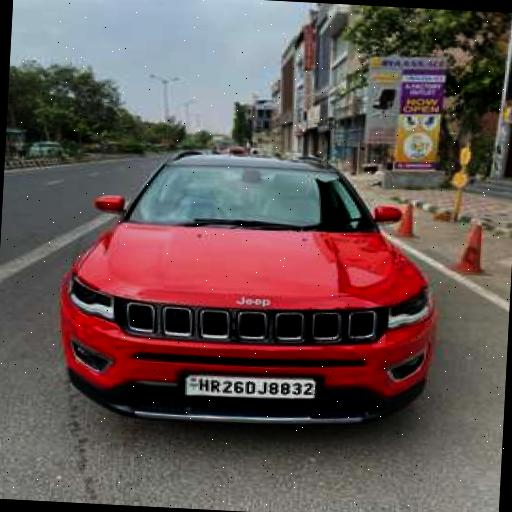license_plate`: (182, 370, 316, 400)
